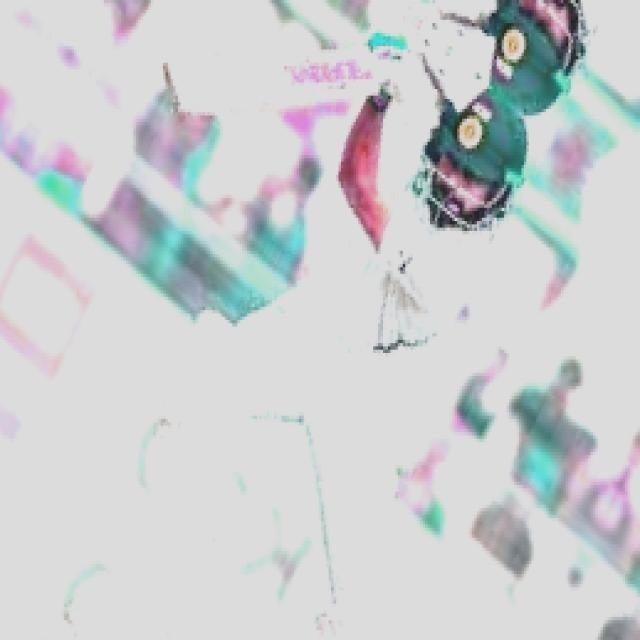bat: (160, 35, 407, 118)
toe: (160, 60, 190, 116)
